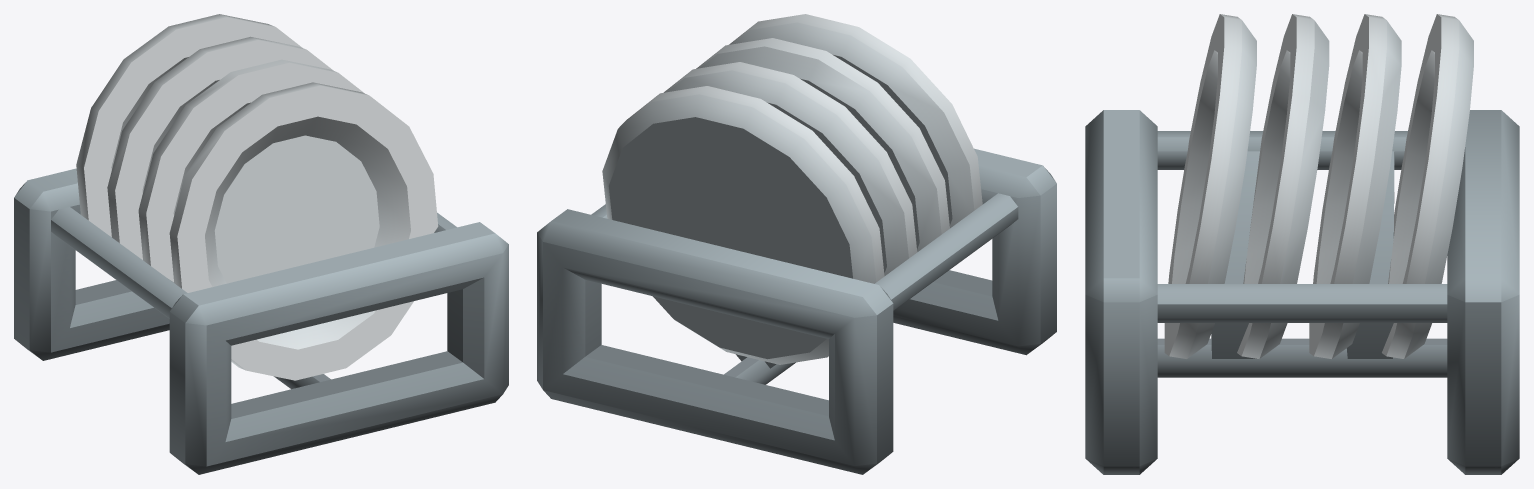
Rendered from Dishrack-cyhc2Sj4Uy.glb.
3 renders of one model, left to right at view 1: azimuth 30°, elevation 25°; view 2: azimuth 150°, elevation 25°; view 3: azimuth 270°, elevation 25°, orthographic. The views are drawn at different scales.
Parts seen in each view (by area): view 1: dishrack_plates; view 2: dishrack_plates; view 3: dishrack_plates.
Part boxes in pixels (x1,y1,x2,y2): dishrack_plates: (14, 14, 508, 474); dishrack_plates: (537, 14, 1056, 474); dishrack_plates: (1085, 14, 1519, 474).
Bounding box in the file's own units: 1.2 × 1.1 × 1.2.
1 material, 1 textured.
